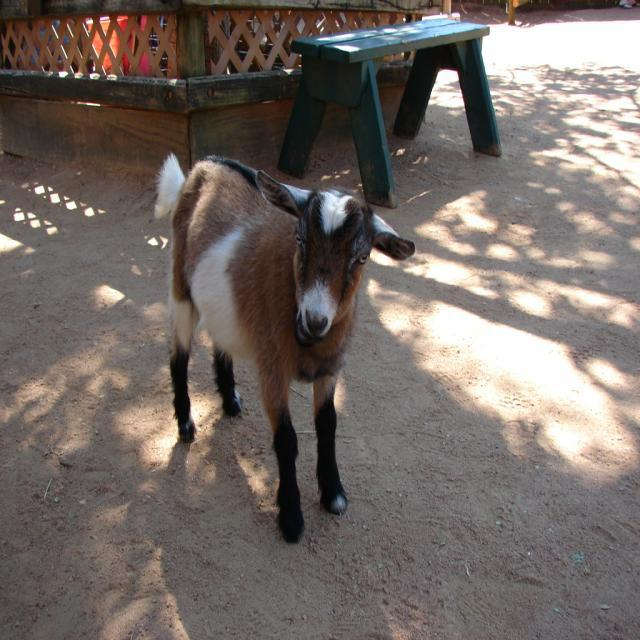Goat: (153, 150, 417, 543)
